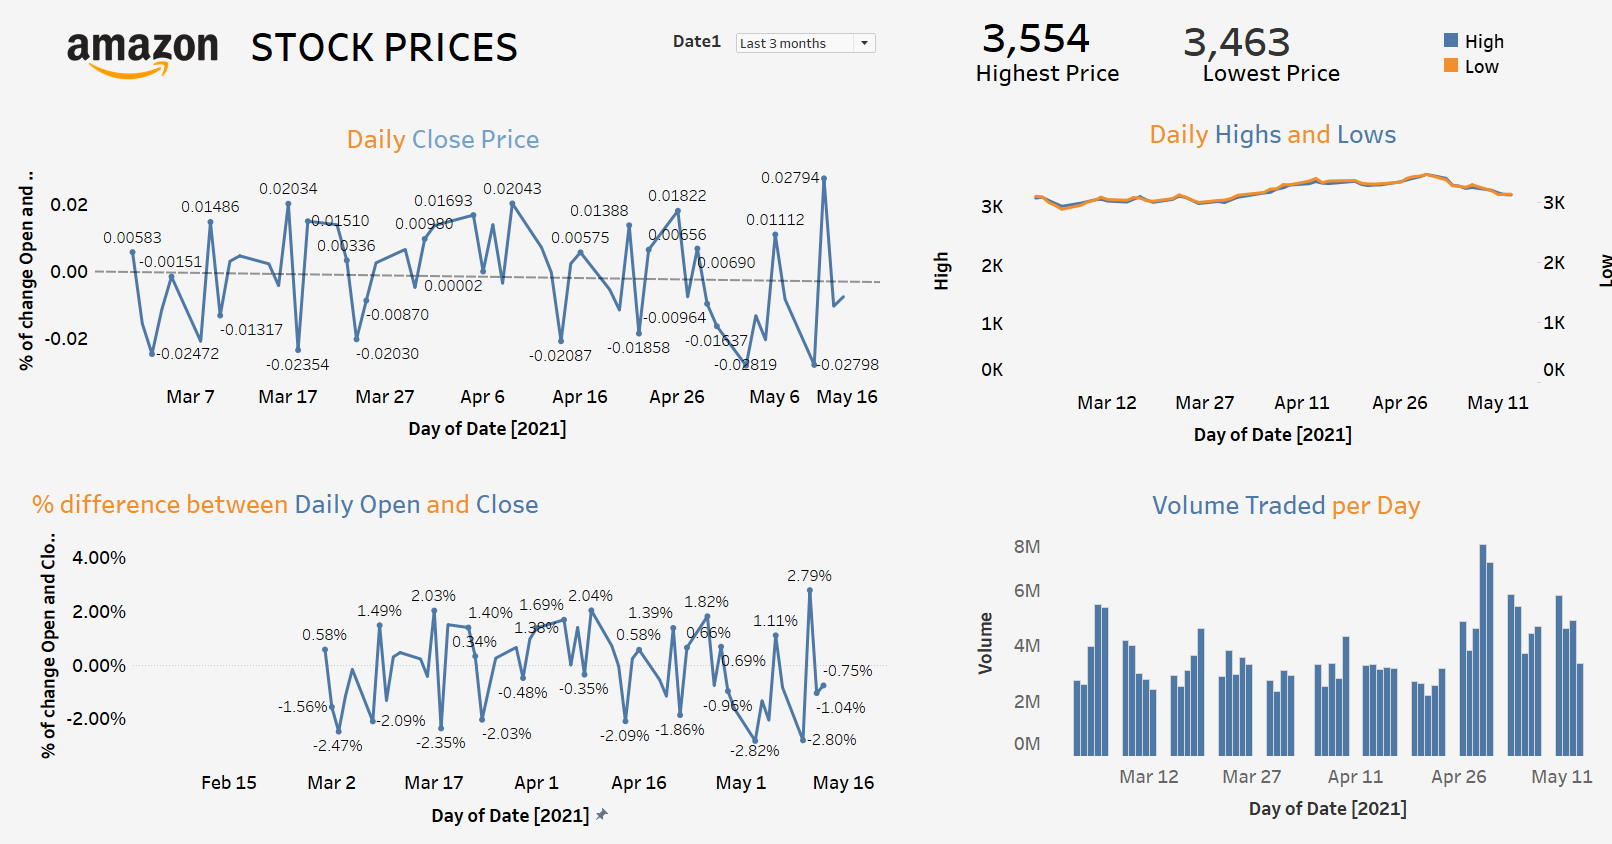

Layout of this report page (visuals, bound fields, positions):
{"tool":"tableau","page":{"name":"Dashboard 1","canvas":[1650,850],"ordinal":0},"visuals":[{"type":"worksheet","title":"Sheet 2","mark":"Automatic","rows":["High","Low"],"cols":["Date"],"param":"[federated.0r1mpyp1imgnit1gjkyi90z67w7a].[:Measure Names]","box":[1447.5,6.3,146.7,80.5]},{"type":"worksheet","title":"Sheet 6","mark":"Text","box":[983.6,13.4,188.5,54.6]},{"type":"worksheet","title":"Sheet 7","mark":"Automatic","box":[1185.1,17,206.5,55.5]},{"type":"worksheet","box":[254.6,28.6,382.8,39.4]},{"type":"worksheet","title":"Sheet 1","mark":"Automatic","rows":["Calculation_323977721177448448"],"cols":["Date"],"param":"[federated.0r1mpyp1imgnit1gjkyi90z67w7a].[none:Date:qk]","box":[669.4,34,217.8,34.9]},{"type":"worksheet","box":[1207.1,58.9,154.6,32.7]},{"type":"worksheet","box":[979.6,61.1,157.6,29.8]},{"type":"worksheet","title":"Sheet 2","mark":"Automatic","rows":["High","Low"],"cols":["Date"],"box":[928.8,115.6,704.3,341]},{"type":"worksheet","title":"Sheet 1","mark":"Automatic","rows":["Calculation_323977721177448448"],"cols":["Date"],"box":[14,120.7,873.9,330.1]},{"type":"worksheet","title":"Sheet 3","mark":"Automatic","rows":["Calculation_323977721177448448"],"cols":["Date"],"box":[35.9,486.4,859.9,351.9]},{"type":"worksheet","title":"Sheet 4","mark":"Bar","rows":["Volume"],"cols":["Date"],"box":[972.6,487.2,643.4,343.9]}]}

Visuals, with their boxes in screenshot pixels (x1, y1, x2, y2), scaled from the page's 1650x850 canvas onto the 1612x844 screenshot:
"Sheet 2" worksheet: 1414,6,1557,86
"Sheet 6" worksheet (Text marks): 961,13,1145,68
"Sheet 7" worksheet: 1158,17,1360,72
worksheet: 249,28,623,68
"Sheet 1" worksheet: 654,34,867,68
worksheet: 1179,58,1330,91
worksheet: 957,61,1111,90
"Sheet 2" worksheet: 907,115,1595,453
"Sheet 1" worksheet: 14,120,867,448
"Sheet 3" worksheet: 35,483,875,832
"Sheet 4" worksheet (Bar marks): 950,484,1579,825
